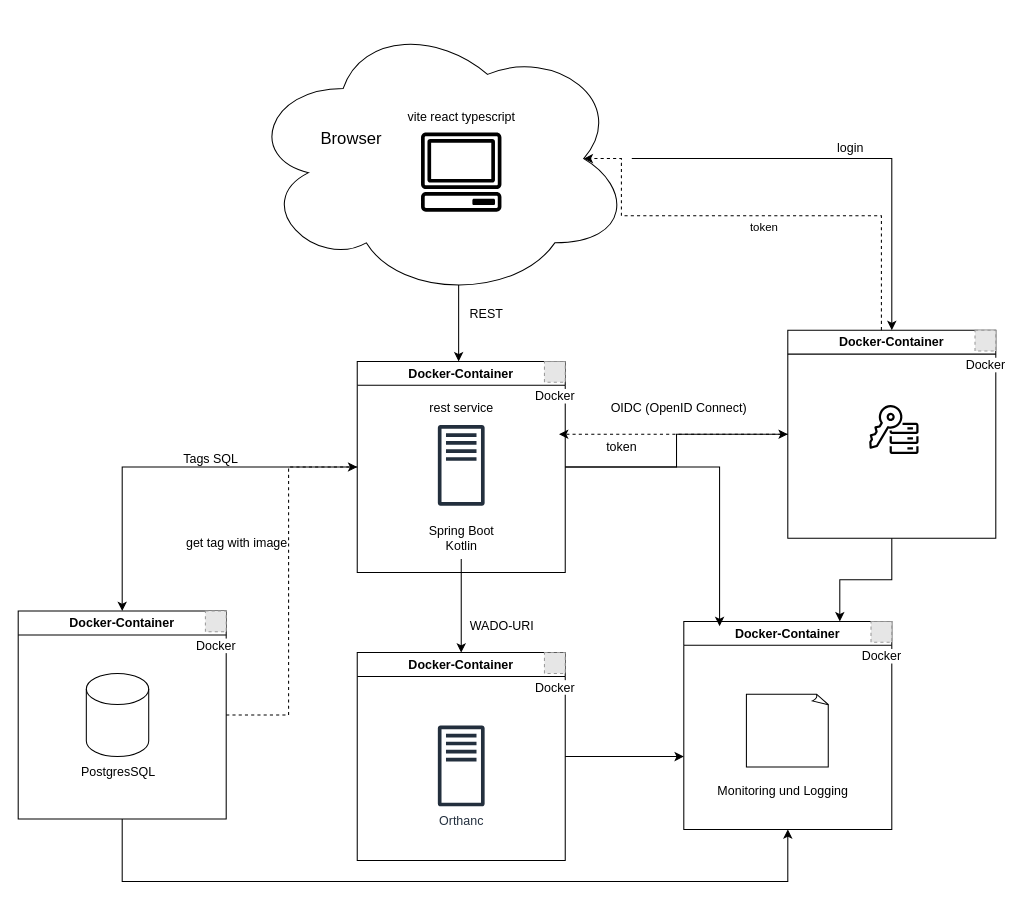
The diagram is 1023 pixels wide and 908 high, and some of its shapes have lost their labels. Grey dashed boxes stand in for pictures. Each missing label, with the centre of its shape:
"Keycloak (OAuth2)" goes at [893,428].
"Protocol" goes at [787,730].
"Web-Client" goes at [461,172].
